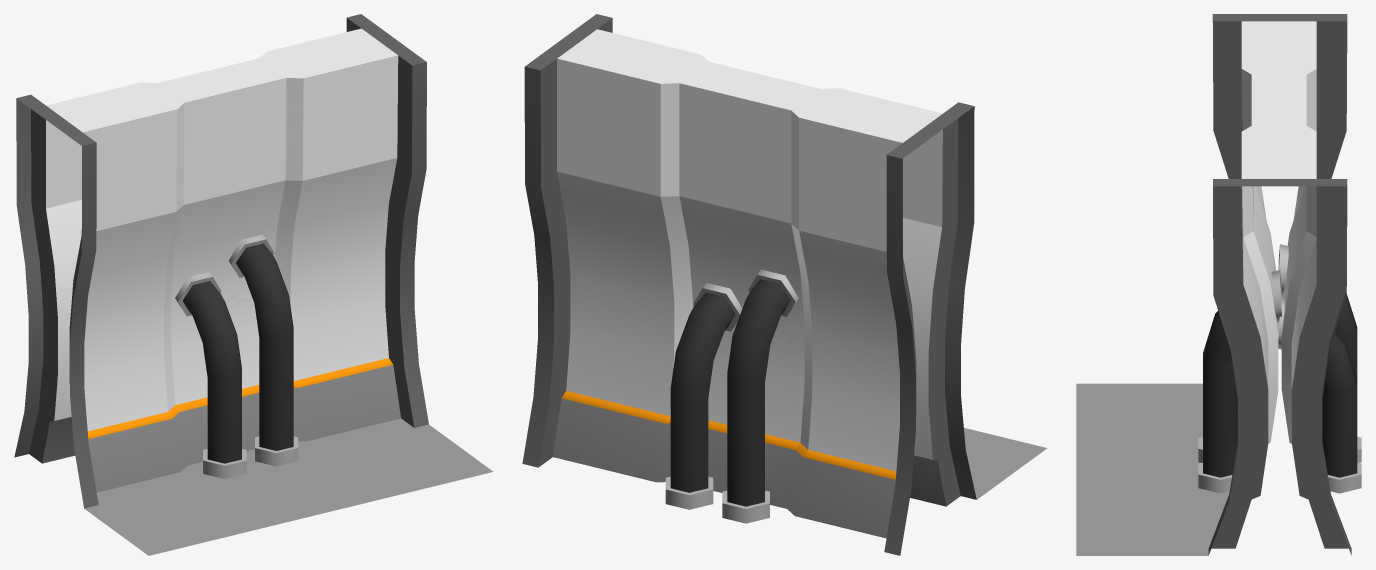
Rendered from SM_ExteriorWall_06.fbx.
3 renders of one model, left to right at view 1: azimuth 30°, elevation 25°; view 2: azimuth 150°, elevation 25°; view 3: azimuth 270°, elevation 25°, orthographic. The views are drawn at different scales.
Parts seen in each view (by area): view 1: SM_ExteriorWall_06; view 2: SM_ExteriorWall_06; view 3: SM_ExteriorWall_06.
Boxes of the visible parts, <box> form: SM_ExteriorWall_06: <box>14,14,493,555</box>; SM_ExteriorWall_06: <box>522,14,1047,555</box>; SM_ExteriorWall_06: <box>1076,14,1361,555</box>.
Size of the model in its own units: 200 by 200 by 140.
Materials: 1 (1 with a texture image).
